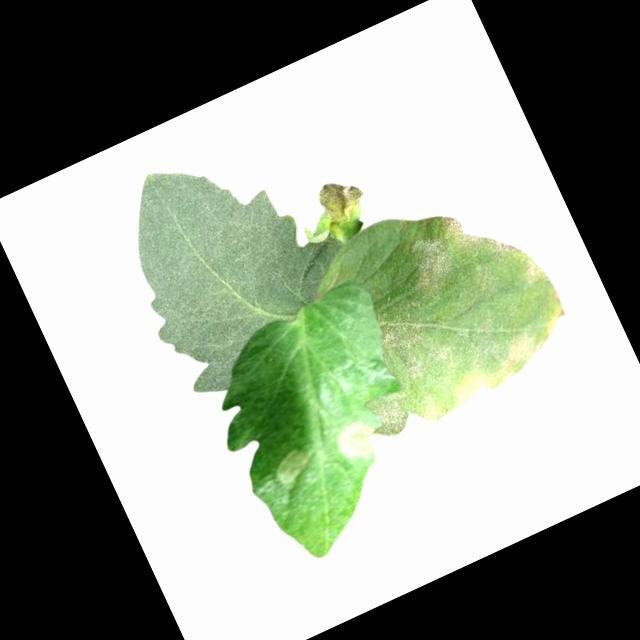Late_blight: (302, 185, 587, 450), (311, 167, 371, 228), (329, 415, 382, 466), (269, 442, 320, 489)
healthy: (92, 111, 374, 406)
